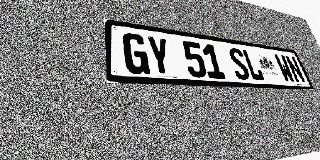1: (200, 43, 226, 79)
5: (182, 41, 208, 78)
G: (122, 32, 150, 75)
L: (241, 49, 265, 81)
N: (284, 55, 307, 83)
S: (227, 47, 252, 80)
W: (273, 54, 296, 83)
Y: (146, 35, 173, 76)
